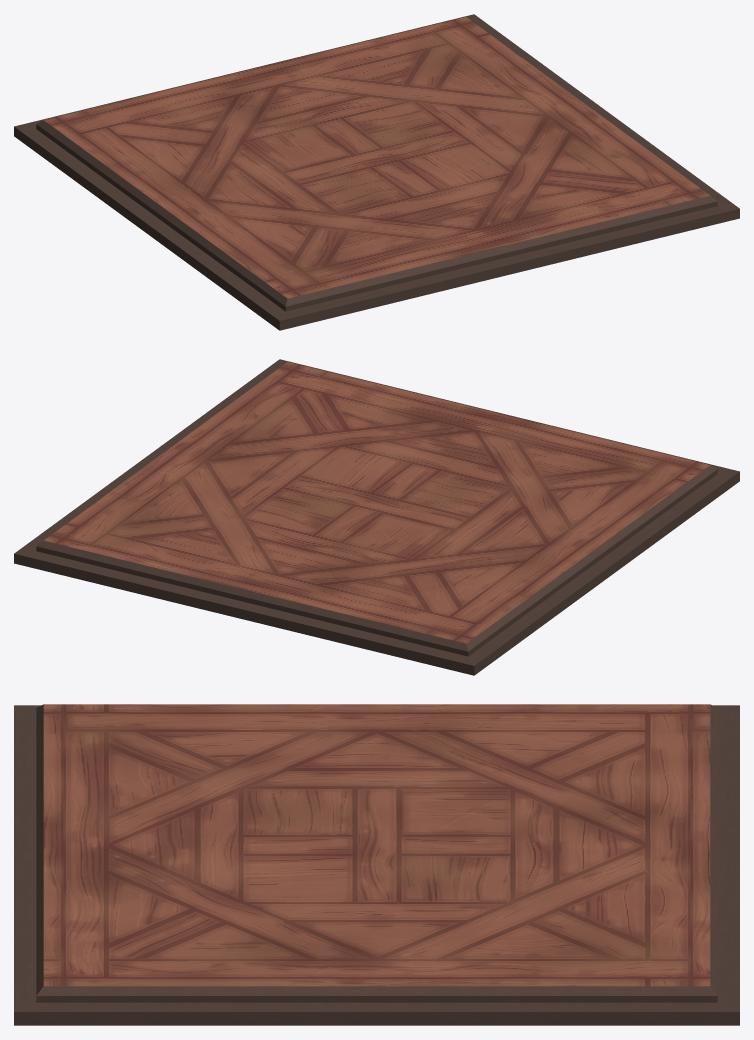
File: WoodPlatform.optimized.glb
The picture shows the model from 3 angles, top to bottom: view 1: azimuth 30°, elevation 25°; view 2: azimuth 150°, elevation 25°; view 3: azimuth 270°, elevation 25°; orthographic projection. The views are drawn at different scales.
Parts seen in each view (by area): view 1: WoodPlatform; view 2: WoodPlatform; view 3: WoodPlatform.
Part boxes in pixels (bbox=[...]): WoodPlatform: bbox=[14, 14, 739, 330]; WoodPlatform: bbox=[14, 359, 739, 675]; WoodPlatform: bbox=[14, 704, 739, 1025].
Size of what is drawn, in the model's own units: 4.25 by 0.1729 by 4.25.
Materials: 2 (2 with a texture image).
